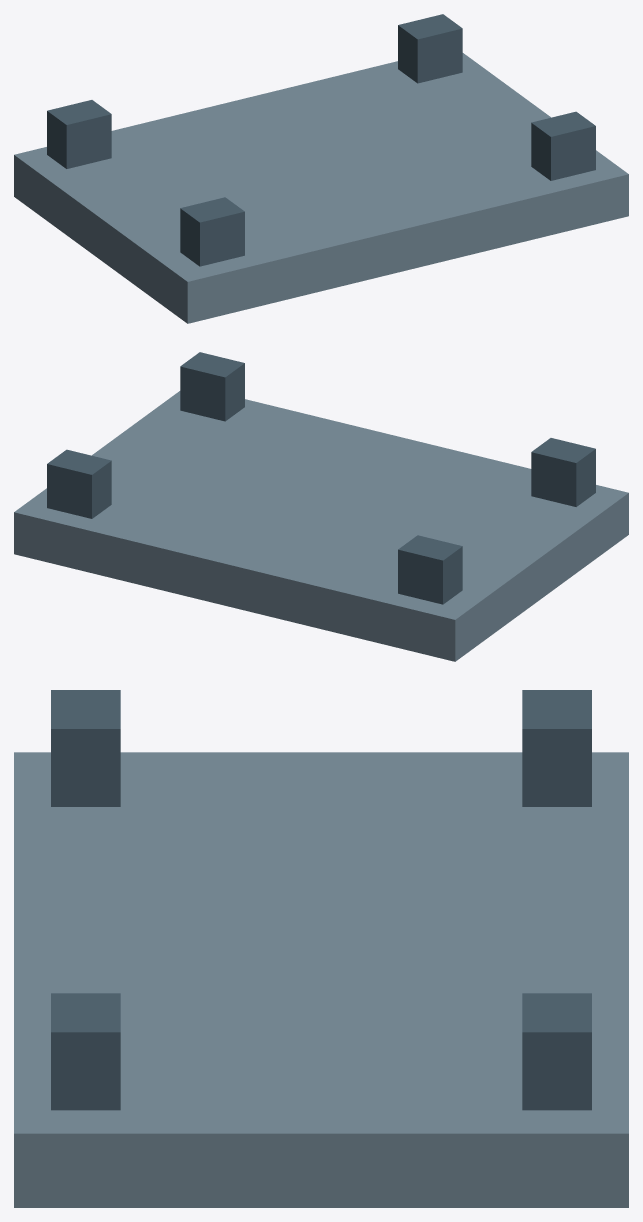
The model's file is 26_L80_PhotonicThermalControlPlatform.glb.
3 views of the same model, one above another, from view 1: azimuth 30°, elevation 25°; view 2: azimuth 150°, elevation 25°; view 3: azimuth 270°, elevation 25° (orthographic). The views are drawn at different scales.
Visible parts, largest first — view 1: PhotonicThermalControlPlatform_Node_0000, PhotonicThermalControlPlatform_Node_0001, PhotonicThermalControlPlatform_Node_0002, PhotonicThermalControlPlatform_Node_0003, PhotonicThermalControlPlatform_Node_0004; view 2: PhotonicThermalControlPlatform_Node_0000, PhotonicThermalControlPlatform_Node_0001, PhotonicThermalControlPlatform_Node_0002, PhotonicThermalControlPlatform_Node_0003, PhotonicThermalControlPlatform_Node_0004; view 3: PhotonicThermalControlPlatform_Node_0000, PhotonicThermalControlPlatform_Node_0003, PhotonicThermalControlPlatform_Node_0004, PhotonicThermalControlPlatform_Node_0001, PhotonicThermalControlPlatform_Node_0002.
Boxes of the visible parts, x1,y1,x2,y2 form: PhotonicThermalControlPlatform_Node_0000: (14,53,628,323); PhotonicThermalControlPlatform_Node_0001: (47,100,111,168); PhotonicThermalControlPlatform_Node_0002: (180,197,244,266); PhotonicThermalControlPlatform_Node_0003: (398,14,462,83); PhotonicThermalControlPlatform_Node_0004: (531,111,595,180); PhotonicThermalControlPlatform_Node_0000: (14,391,628,661); PhotonicThermalControlPlatform_Node_0001: (398,535,462,604); PhotonicThermalControlPlatform_Node_0002: (531,438,595,506); PhotonicThermalControlPlatform_Node_0003: (47,449,111,518); PhotonicThermalControlPlatform_Node_0004: (180,352,244,421); PhotonicThermalControlPlatform_Node_0000: (14,752,628,1207); PhotonicThermalControlPlatform_Node_0003: (522,993,591,1110); PhotonicThermalControlPlatform_Node_0004: (51,993,120,1110); PhotonicThermalControlPlatform_Node_0001: (522,690,591,806); PhotonicThermalControlPlatform_Node_0002: (51,690,120,806).
Bounding box in the file's own units: 4.4 × 0.848 × 3.
